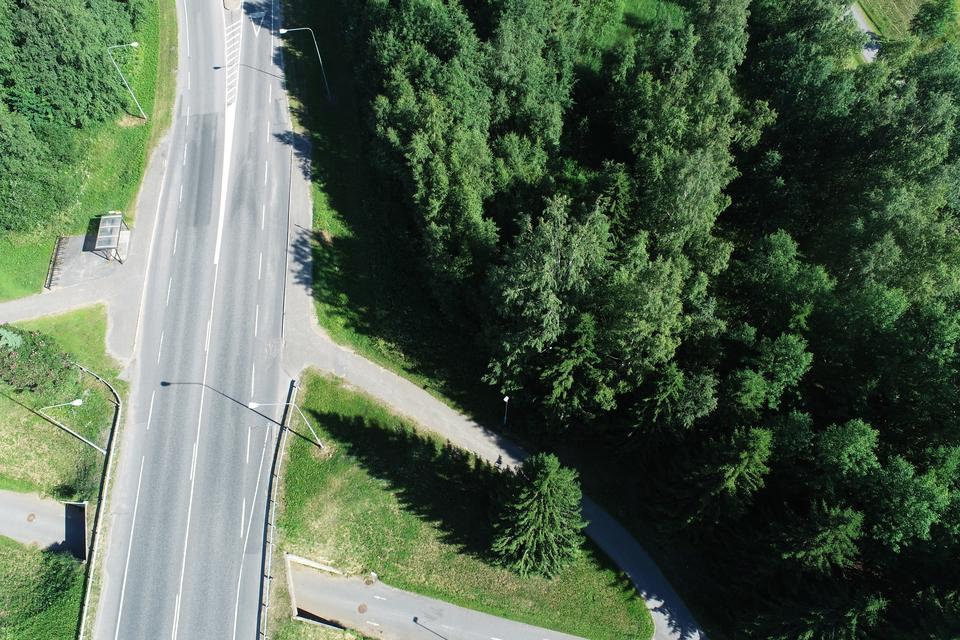intersection: (63, 203, 371, 425)
